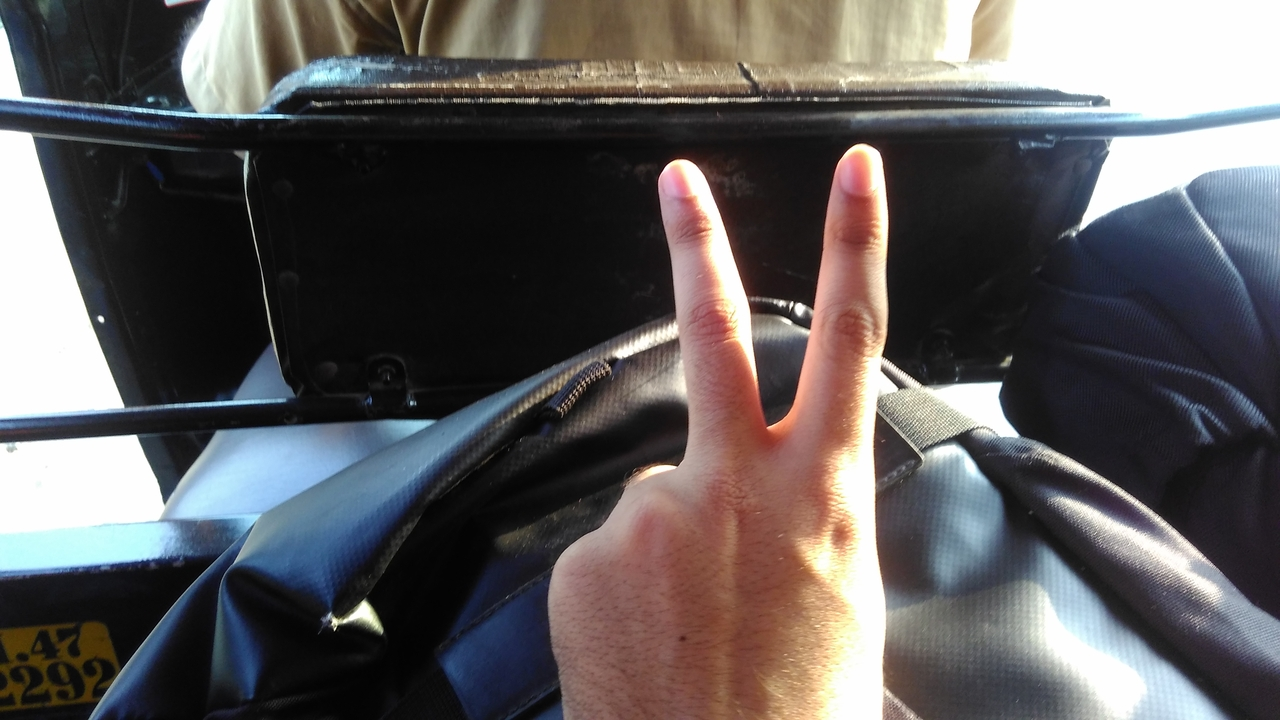fingertip: (830, 136, 890, 208), (654, 152, 714, 218)
